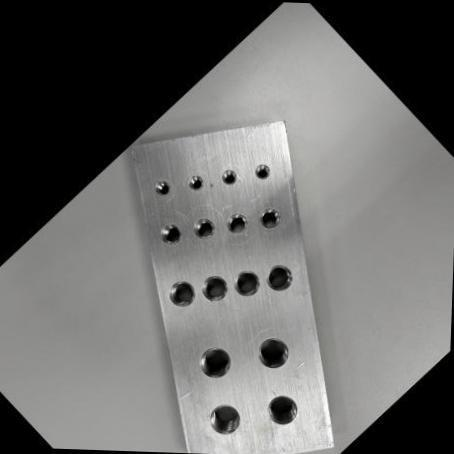hole: (190, 338, 238, 386), (247, 328, 294, 376), (200, 395, 246, 442), (258, 386, 303, 432), (160, 273, 200, 313), (258, 258, 298, 298), (194, 268, 232, 307), (226, 263, 264, 302), (153, 217, 185, 250), (186, 211, 218, 244), (252, 201, 284, 233), (220, 207, 250, 239), (149, 175, 173, 199), (182, 170, 206, 194), (248, 158, 272, 182), (217, 165, 240, 188)
